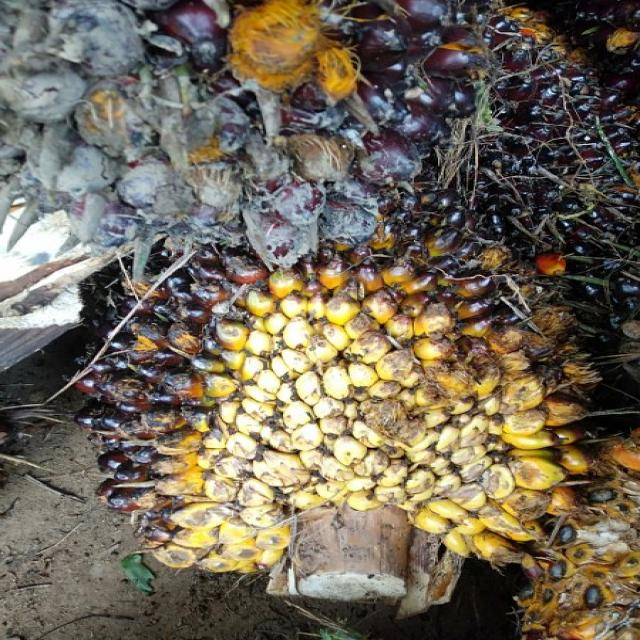fraksi 00: (62, 158, 588, 586)
